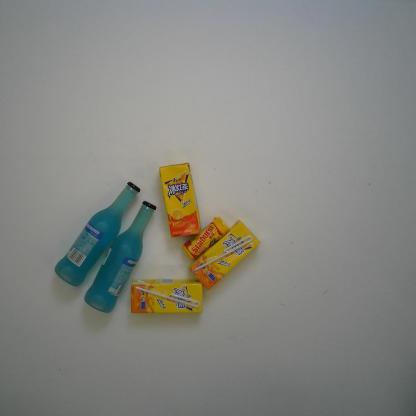Alcohol: (53, 180, 141, 288), (83, 199, 158, 314)
Candy: (182, 216, 230, 261)
Drink: (188, 219, 262, 292), (159, 162, 201, 239), (130, 278, 203, 314)
